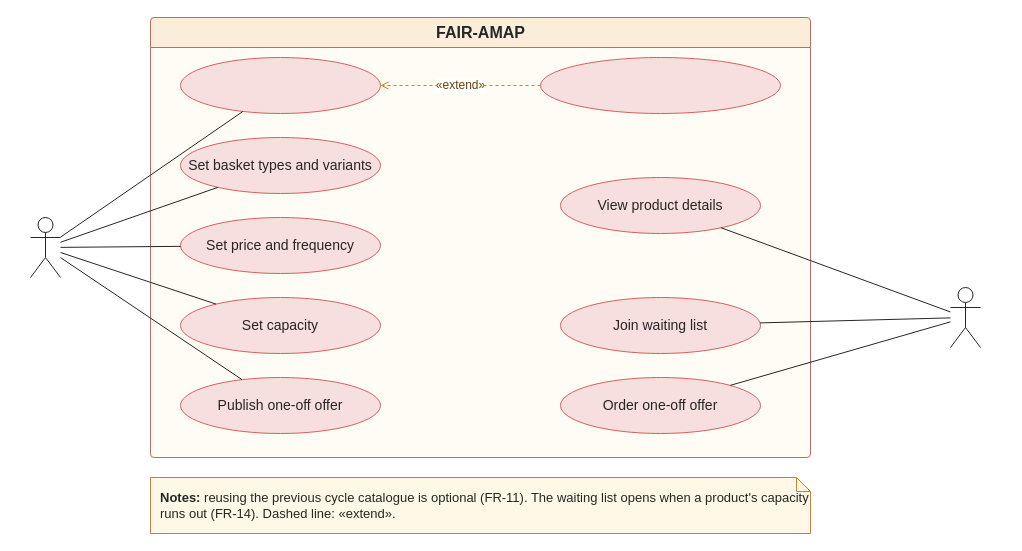
This 1022x551 diagram has some shape labels left out. Here are the shapes that lost their labels. From the top down, the centre of each, then its label:
the point at 280,85: Manage catalogue
the point at 660,85: Reuse previous cycle catalogue
the point at 45,247: Producer
the point at 965,317: Co-producer
